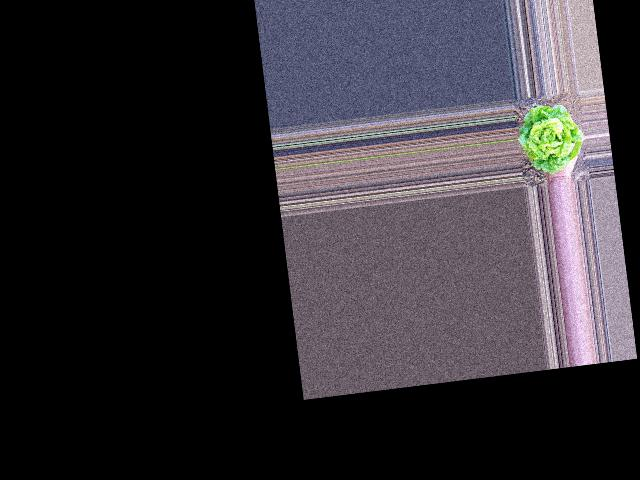lettuce: (515, 99, 585, 172)
